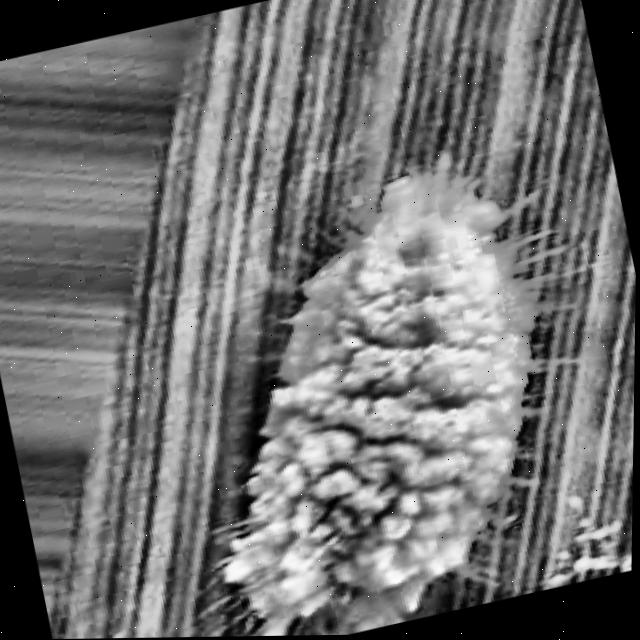Mealy-bug: (79, 96, 639, 639)
